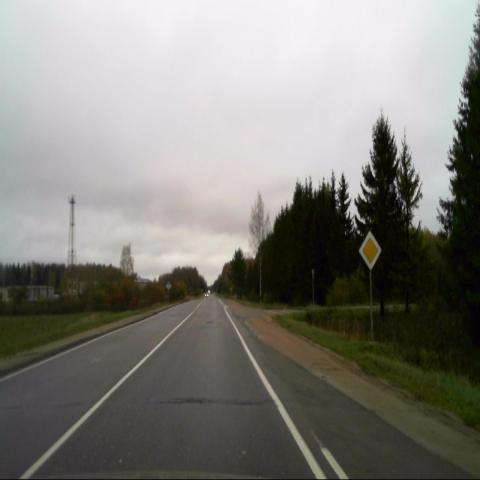2_1: (359, 231, 382, 270)
